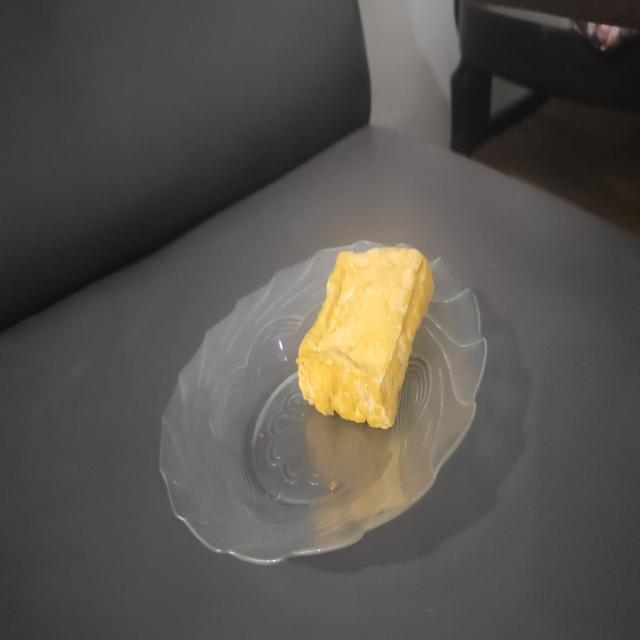tahu_goreng: (296, 247, 434, 429)
